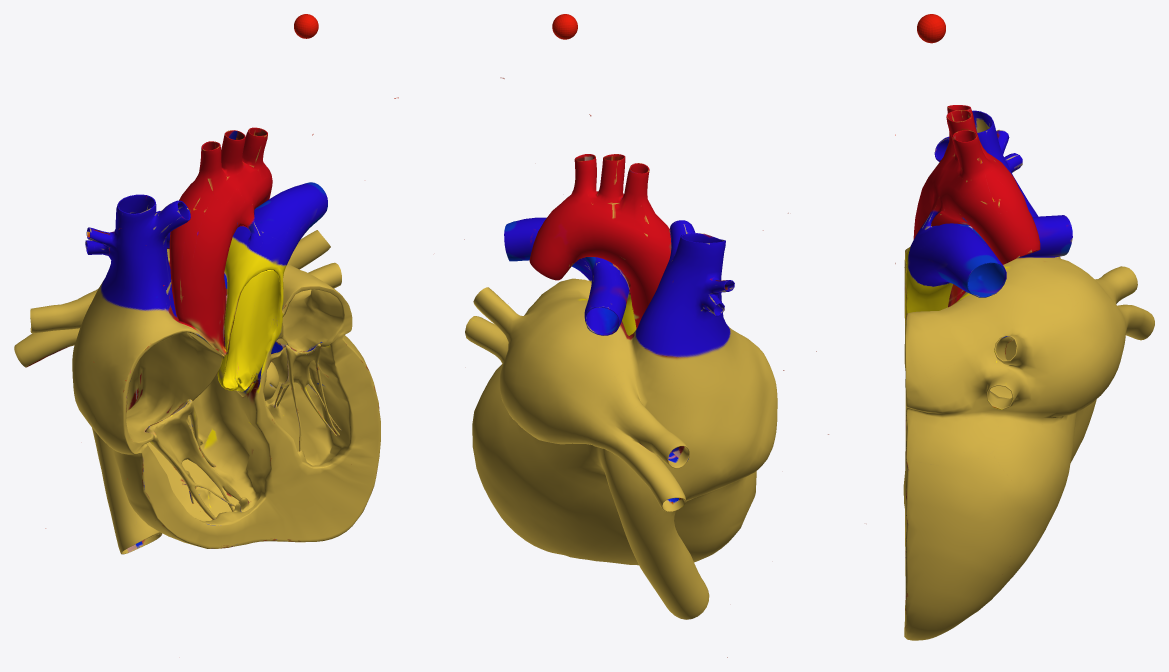
The model's file is latestlatestanimation.glb.
3 renders of one model, left to right at view 1: azimuth 30°, elevation 25°; view 2: azimuth 150°, elevation 25°; view 3: azimuth 270°, elevation 25°, orthographic. The views are drawn at different scales.
Visible parts, largest first — view 1: GLTF_created_0; view 2: GLTF_created_0; view 3: GLTF_created_0, water ball.001.
Part boxes in pixels (x1,y1,x2,y2): GLTF_created_0: (14, 127, 380, 554); GLTF_created_0: (465, 154, 777, 619); GLTF_created_0: (903, 105, 1154, 640); water ball.001: (917, 14, 945, 43).
Size of the model in its own units: 15.82 by 23.18 by 7.77.
30 materials, 1 textured.
